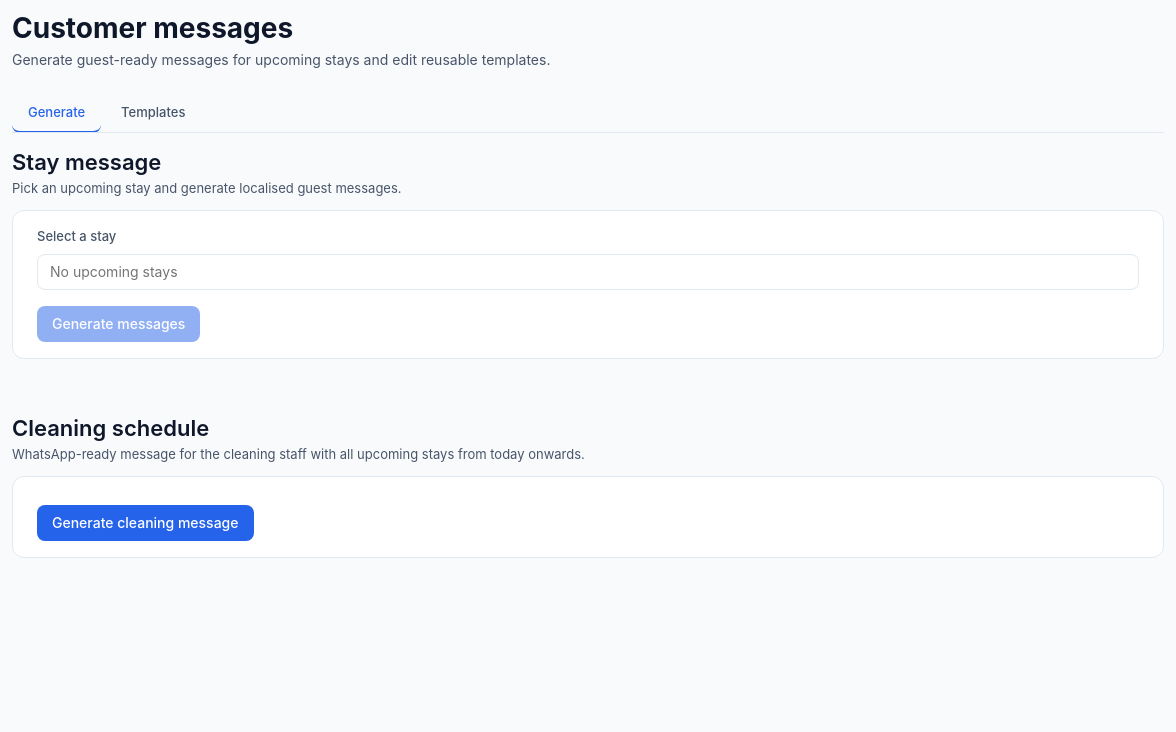
it: MessagesView › loads templates on mount and renders a template title
Click the tab "Templates".
click(153, 113)  # box [105,94,201,133]
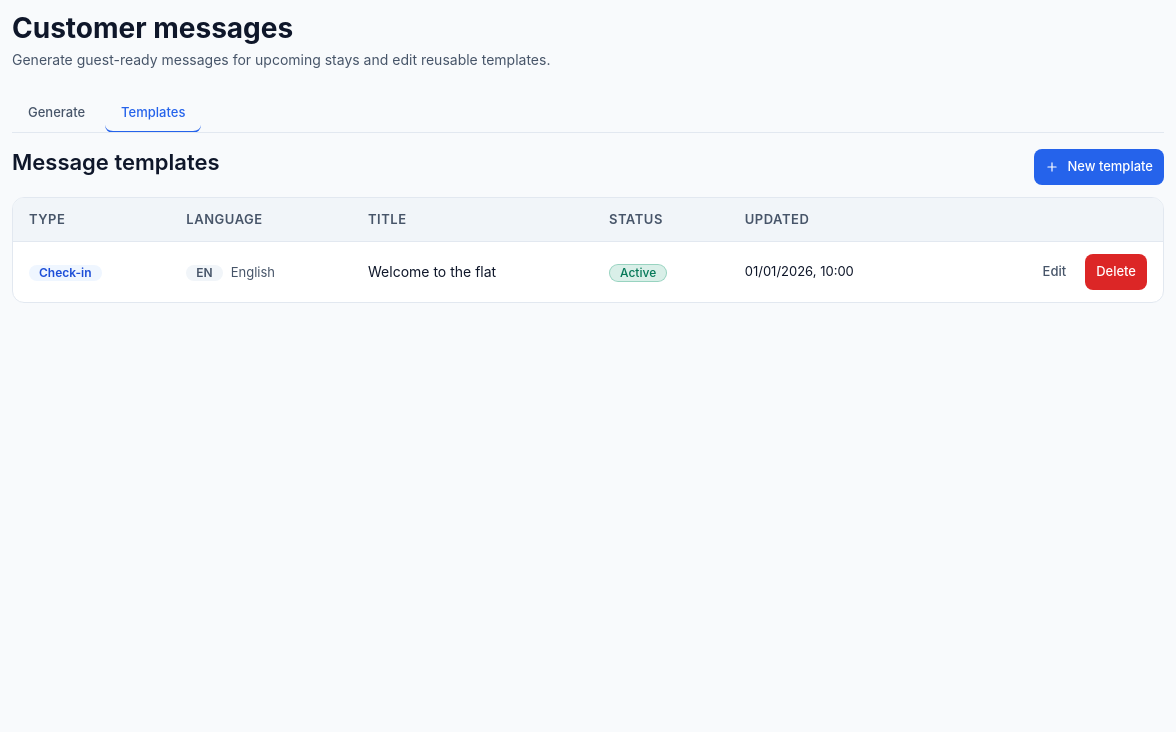
expect the text "Welcome to the flat" is shown: met, box [352,241,593,302]
